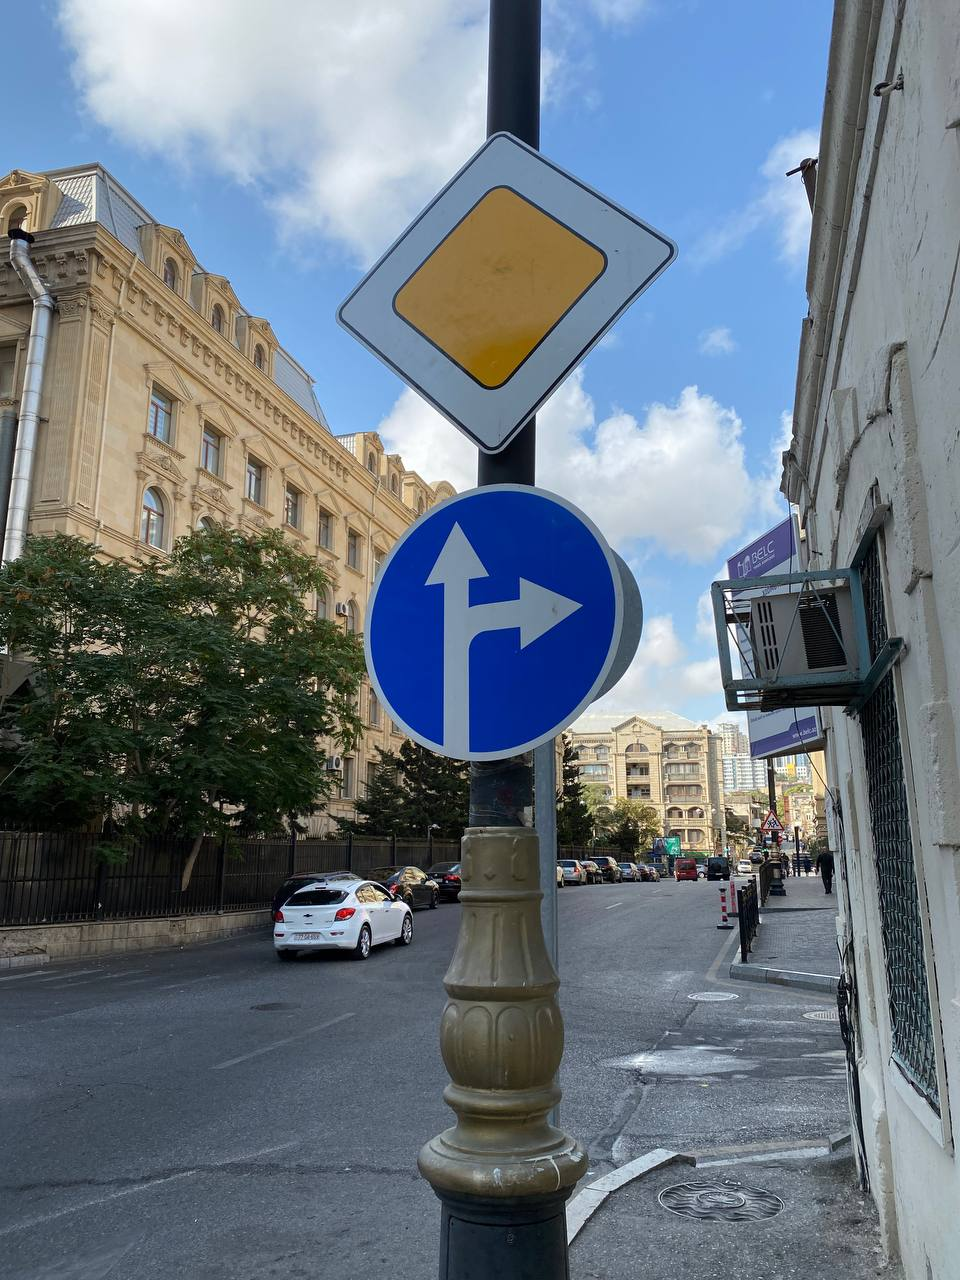Main Road: (335, 131, 679, 454)
Straight or Right: (365, 483, 624, 761)
